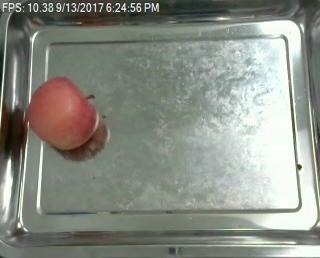apple: (28, 78, 99, 151)
